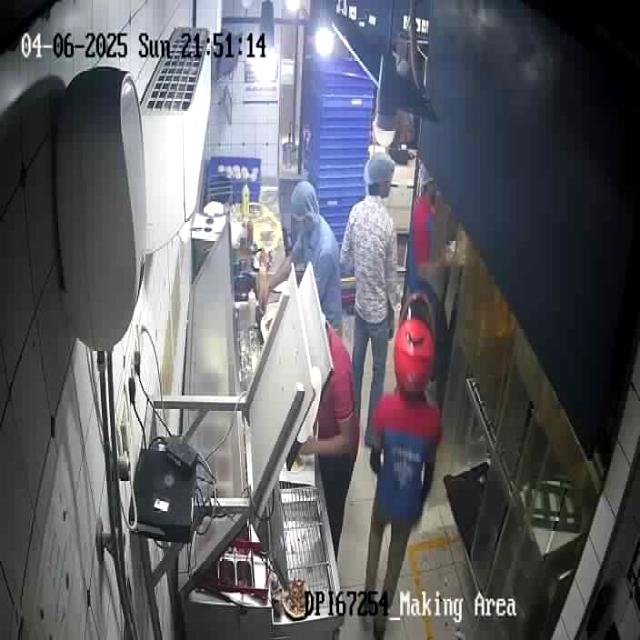helmet: (392, 293, 436, 398)
no_helmet: (290, 180, 321, 226), (364, 152, 395, 196)
